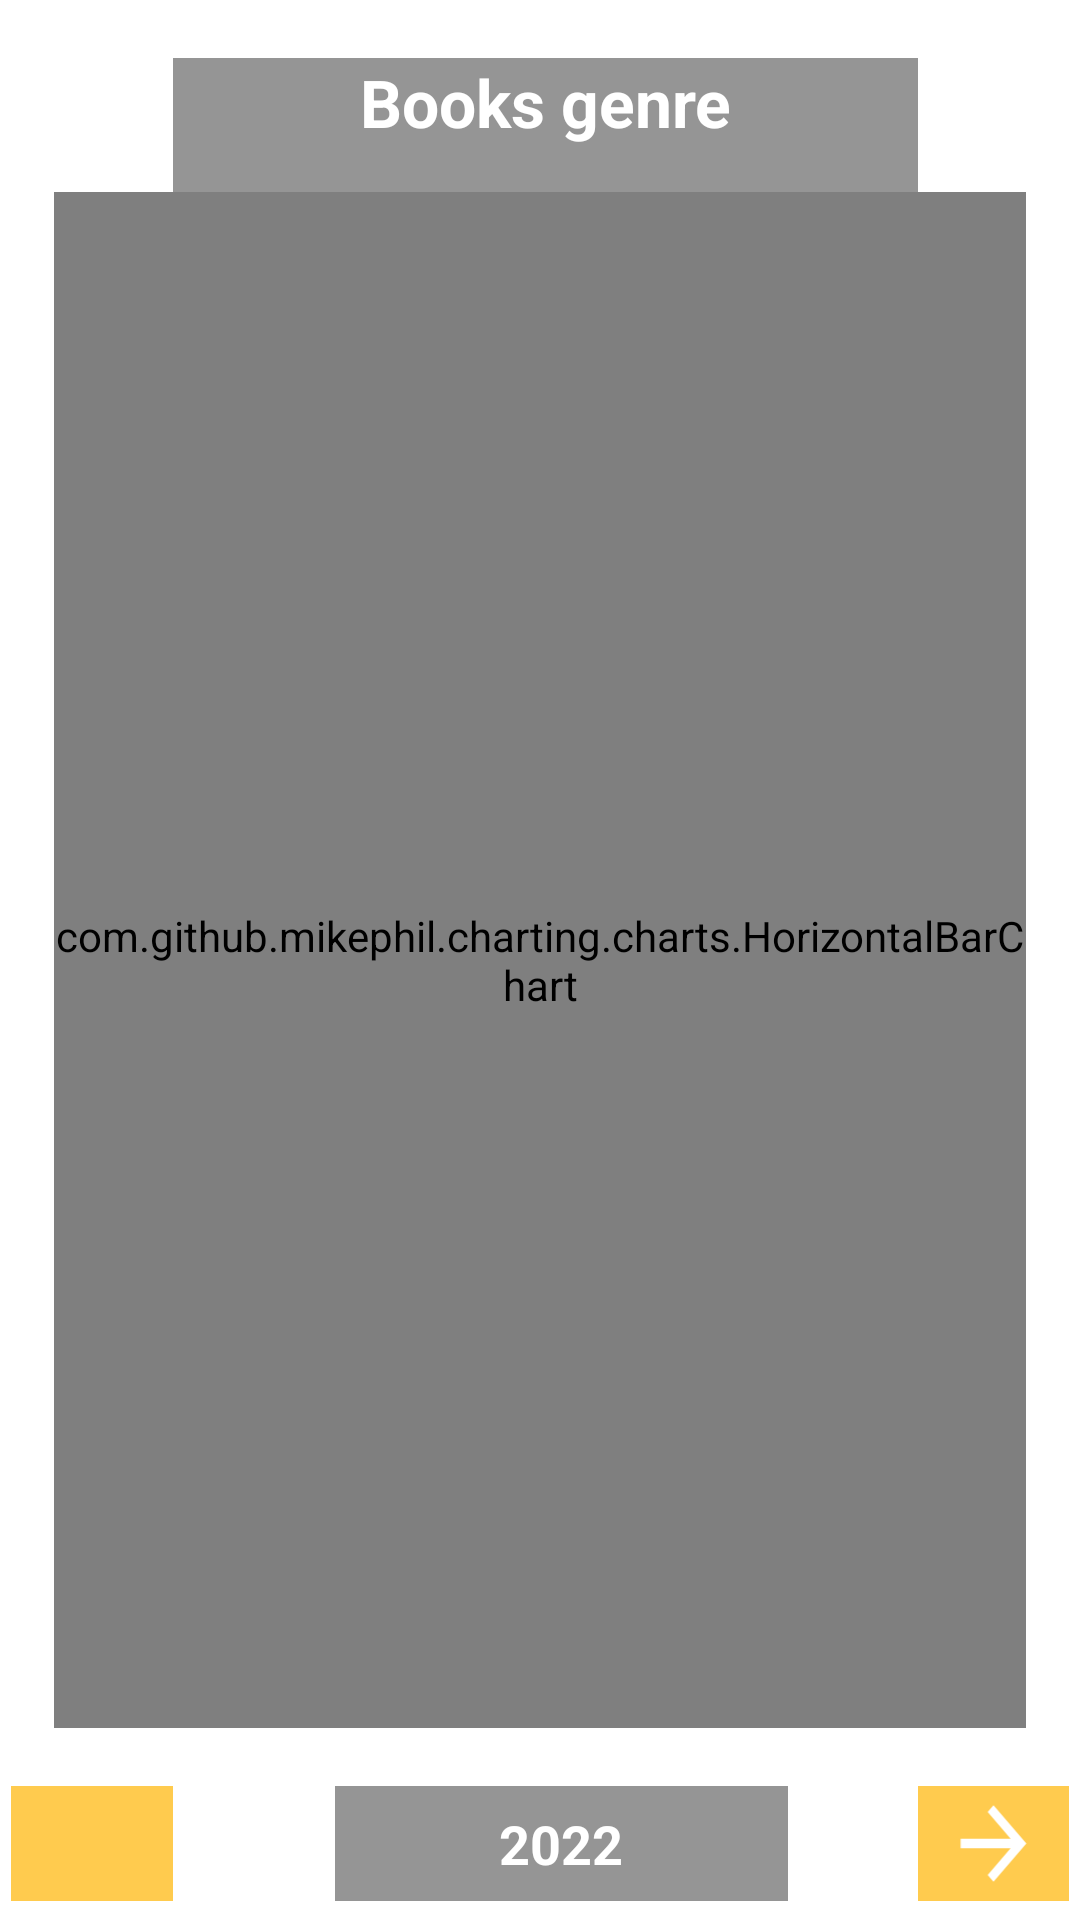

Named icons in this screenshot (1080×1920) and their bounding boxes, detection(x1, y1, x2, y2):
next: detection(918, 1786, 1069, 1901)
